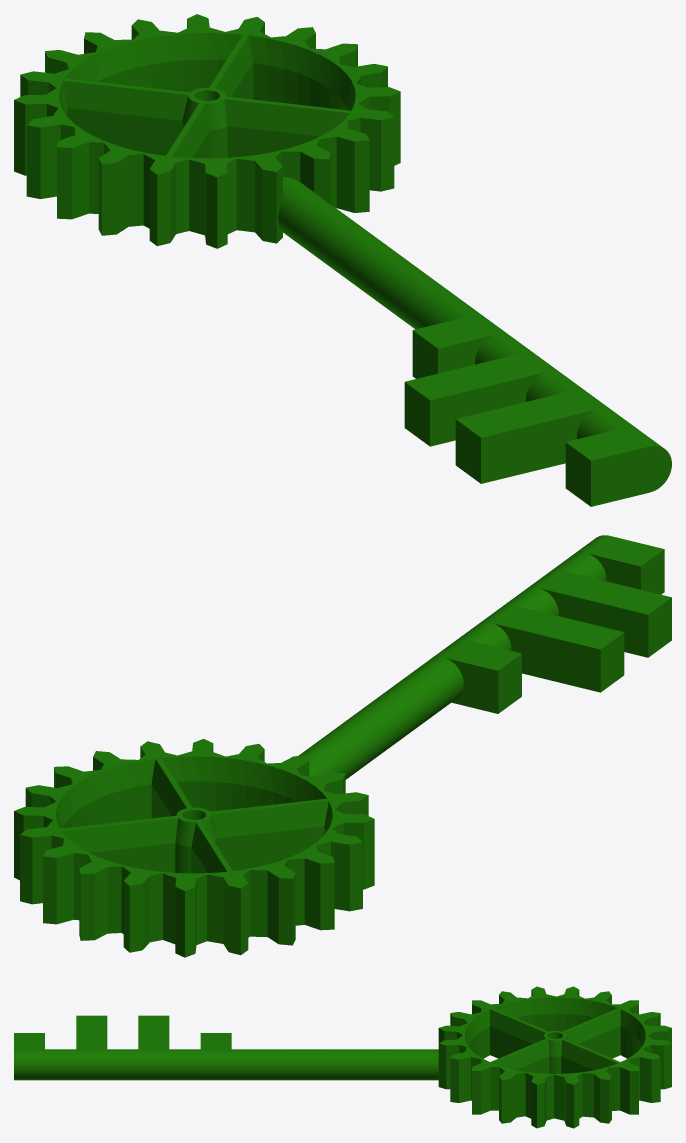
File: Steampunk_Key2.stl.glb
3 views of the same model, one above another, from view 1: azimuth 30°, elevation 25°; view 2: azimuth 150°, elevation 25°; view 3: azimuth 270°, elevation 25° (orthographic). The views are drawn at different scales.
Visible parts, largest first — view 1: Steampunk_Key2; view 2: Steampunk_Key2; view 3: Steampunk_Key2.
Part boxes in pixels (bbox=[...]): Steampunk_Key2: bbox=[14, 14, 671, 506]; Steampunk_Key2: bbox=[14, 535, 671, 957]; Steampunk_Key2: bbox=[14, 986, 671, 1128].
Size of the model in its own units: 45 by 9.28 by 127.
